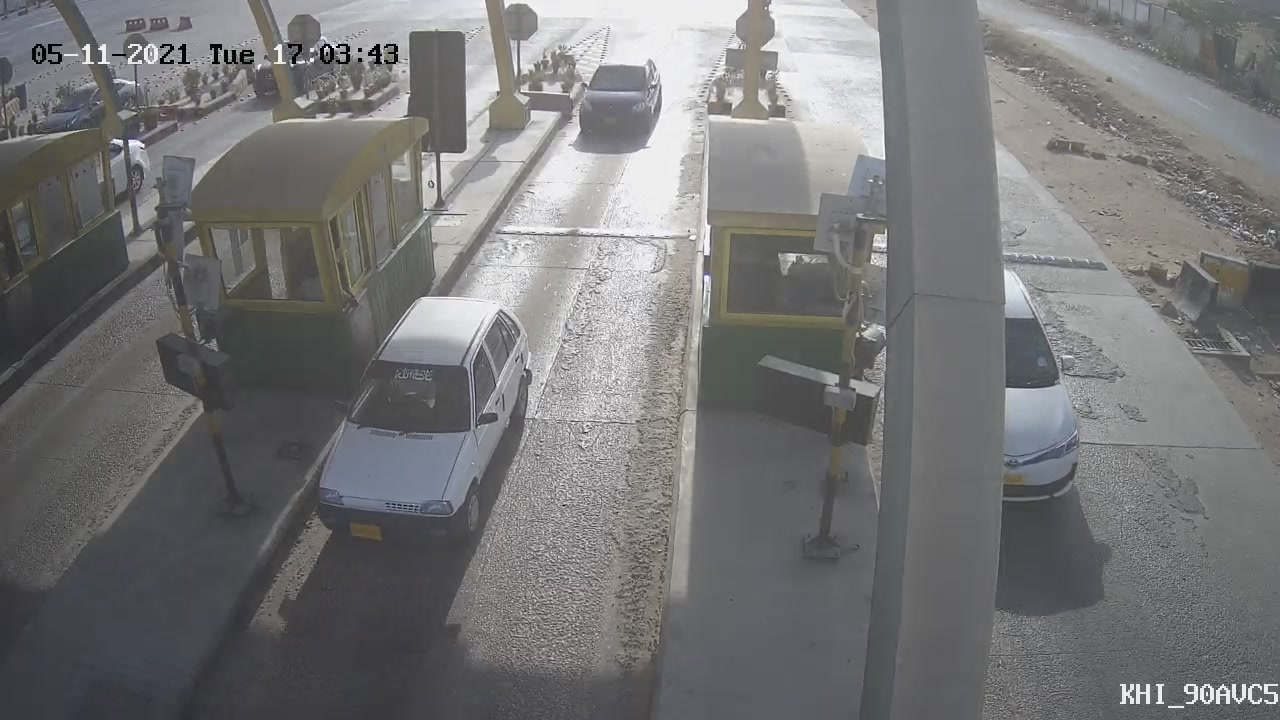F1: (283, 269, 565, 575), (557, 46, 678, 155)
